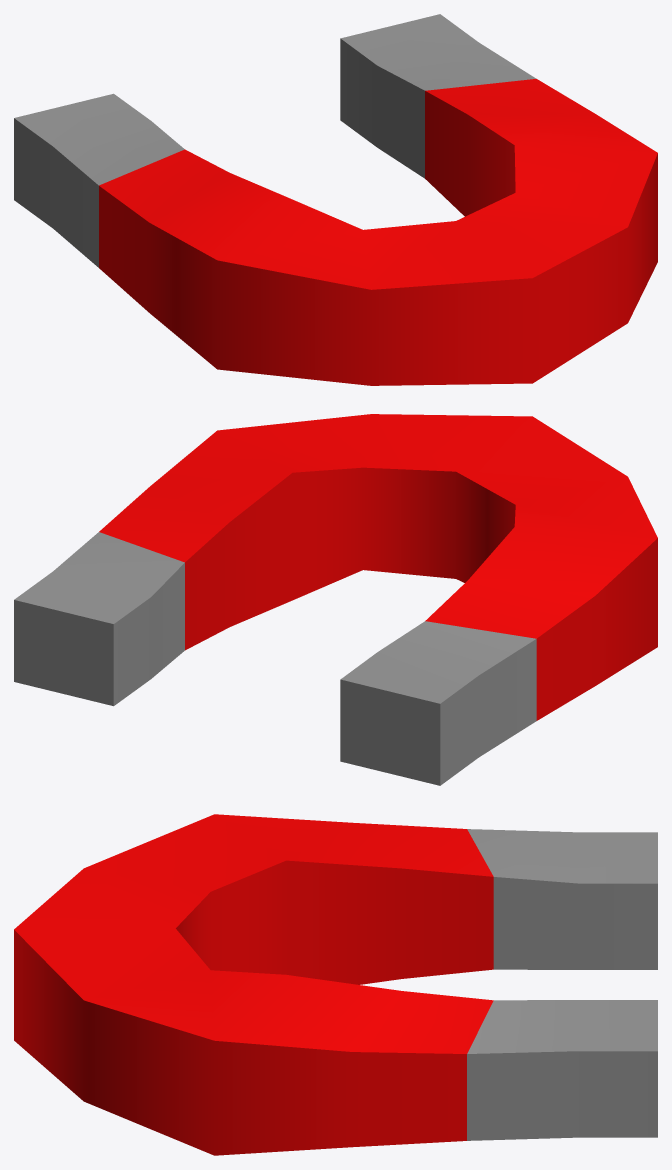
Rendered from Magnet.FBX.
3 renders of one model, top to bottom at view 1: azimuth 30°, elevation 25°; view 2: azimuth 150°, elevation 25°; view 3: azimuth 270°, elevation 25°, orthographic. The views are drawn at different scales.
Visible parts, largest first — view 1: Magnet; view 2: Magnet; view 3: Magnet.
Boxes of the visible parts, x1,y1,x2,y2 form: Magnet: (14, 14, 657, 385); Magnet: (14, 414, 657, 785); Magnet: (14, 814, 657, 1155).
Bounding box in the file's own units: 108 × 29.57 × 128.
